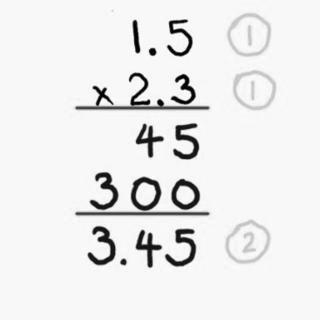.: (147, 42, 160, 60), (119, 255, 132, 269), (156, 94, 166, 106)
0: (129, 171, 162, 210), (166, 177, 202, 212)
1: (123, 12, 143, 58)
2: (122, 67, 154, 106)
3: (78, 167, 121, 210), (80, 224, 119, 269), (172, 65, 196, 104)
4: (131, 120, 165, 160), (133, 225, 164, 268)
5: (162, 222, 197, 269), (161, 15, 197, 57), (168, 116, 200, 161)
